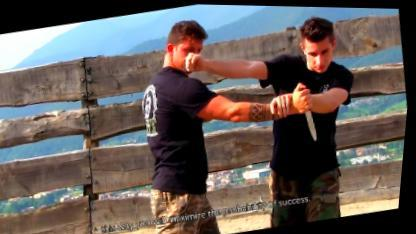knife: (292, 78, 324, 142)
